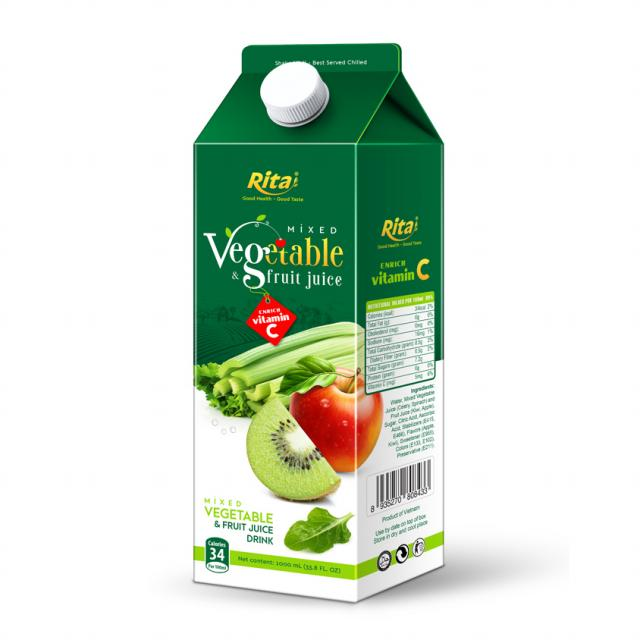non_white_jug: (167, 24, 469, 604)
